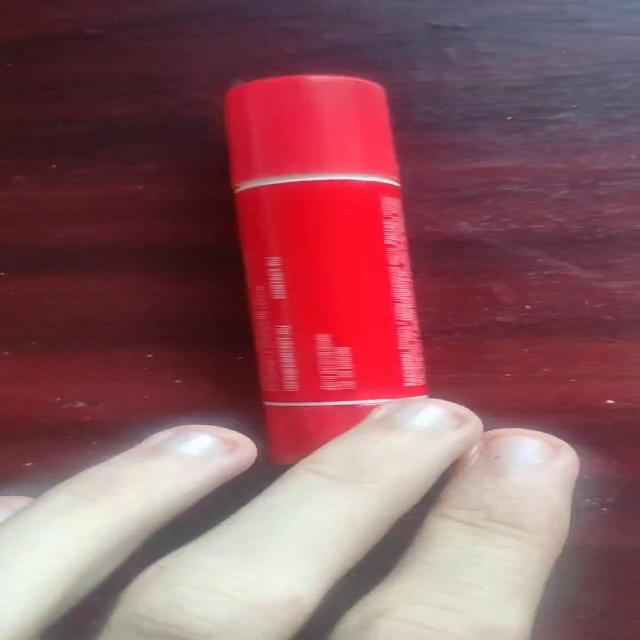glue: (222, 73, 431, 465)
